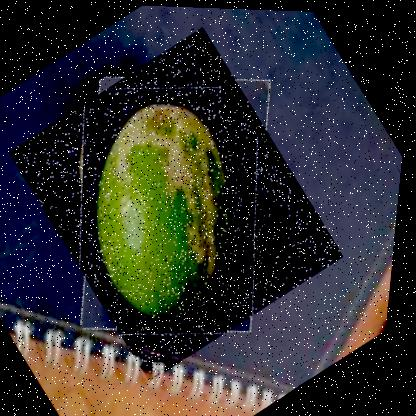orange_rotten: (0, 19, 365, 385)
